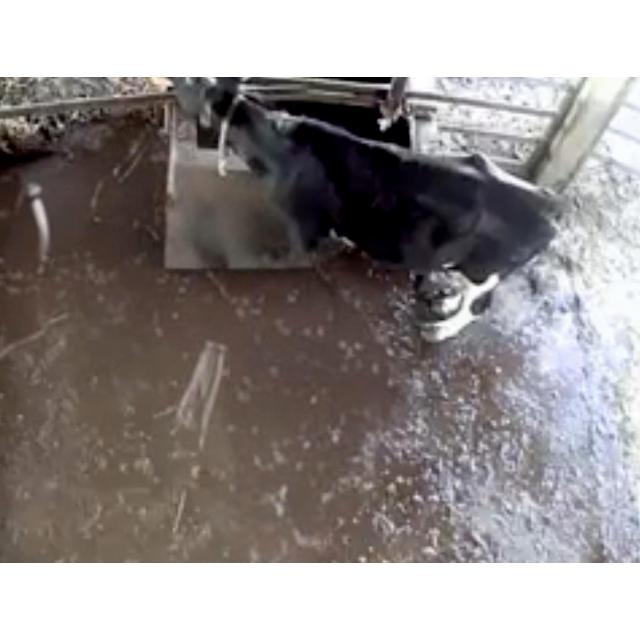drink: (170, 76, 348, 170)
